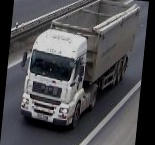truck: (13, 0, 141, 130)
